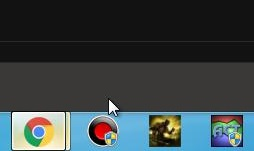cursor: (107, 98, 120, 118)
